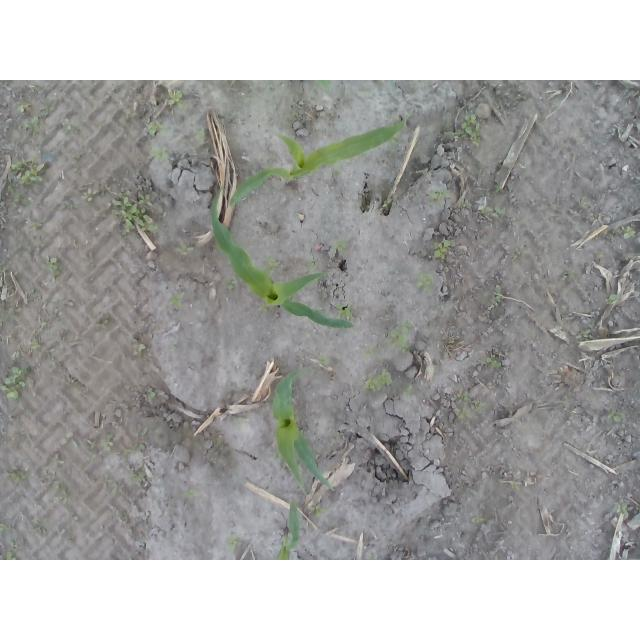Maize: (209, 195, 358, 330), (230, 108, 409, 209), (271, 366, 342, 498), (277, 500, 304, 561)
Weeds: (109, 192, 168, 241), (5, 157, 51, 207), (453, 390, 495, 422), (383, 320, 418, 354), (9, 330, 44, 363), (127, 441, 149, 487), (1, 364, 27, 401), (360, 369, 393, 395), (458, 112, 482, 146), (15, 101, 41, 132), (50, 479, 74, 509), (480, 283, 504, 310), (82, 431, 99, 464), (167, 88, 190, 112), (100, 473, 121, 499), (576, 316, 595, 344), (430, 240, 455, 261), (145, 119, 171, 138), (413, 273, 435, 295), (46, 255, 63, 283), (148, 146, 173, 163), (167, 290, 187, 311), (617, 223, 640, 241), (427, 186, 450, 204), (310, 80, 335, 96), (96, 430, 112, 453), (31, 517, 49, 537), (382, 80, 402, 98), (7, 466, 29, 482), (5, 303, 23, 322), (0, 544, 20, 561), (361, 344, 380, 361), (312, 503, 333, 518), (175, 241, 192, 259), (480, 206, 505, 218), (472, 511, 493, 525), (335, 303, 353, 319), (485, 354, 501, 371), (63, 197, 81, 212), (222, 276, 240, 291), (81, 189, 99, 204), (196, 128, 209, 148), (265, 256, 281, 272), (494, 102, 510, 118), (256, 301, 273, 316), (559, 270, 580, 282), (607, 410, 626, 423), (134, 343, 150, 358), (577, 194, 591, 211), (512, 246, 529, 260), (143, 386, 157, 403), (60, 432, 75, 447), (401, 383, 416, 398), (183, 488, 201, 500), (61, 118, 71, 139), (320, 354, 333, 370), (227, 538, 242, 551), (616, 502, 631, 515), (332, 240, 348, 252), (48, 352, 59, 368), (458, 198, 474, 209), (332, 165, 345, 177), (606, 294, 618, 307), (590, 212, 602, 224), (32, 222, 44, 234), (512, 479, 524, 491), (0, 521, 12, 532), (0, 257, 8, 270), (308, 259, 317, 270), (327, 424, 337, 433), (368, 551, 377, 559), (41, 321, 49, 328)
